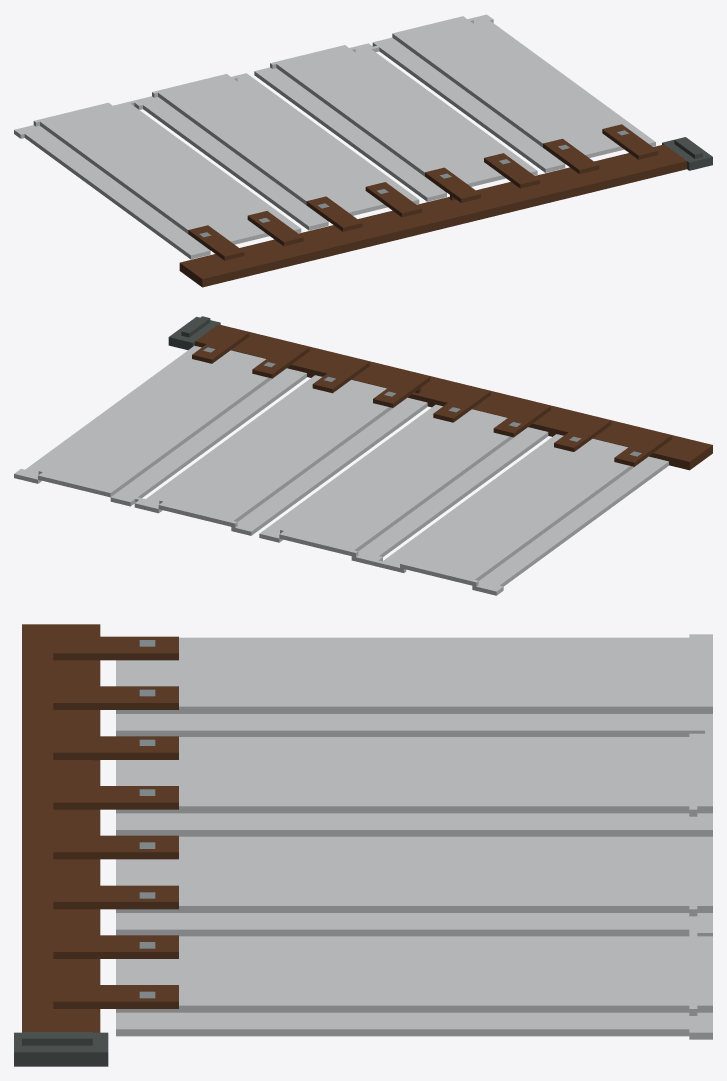
The model's file is skirt_sheet_metal.glb.
3 views of the same model, one above another, from view 1: azimuth 30°, elevation 25°; view 2: azimuth 150°, elevation 25°; view 3: azimuth 270°, elevation 25° (orthographic). The views are drawn at different scales.
Visible parts, largest first — view 1: skirt_sheet_metal:compound; view 2: skirt_sheet_metal:compound; view 3: skirt_sheet_metal:compound.
Part boxes in pixels (x1,y1,x2,y2): skirt_sheet_metal:compound: (14,14,712,287); skirt_sheet_metal:compound: (14,316,712,595); skirt_sheet_metal:compound: (14,624,712,1066).
Bounding box in the file's own units: 0.516 × 0.016 × 0.356.
